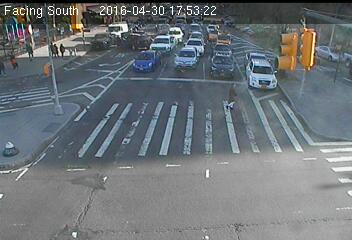neg: (281, 43, 314, 86), (122, 35, 152, 75), (179, 144, 209, 183), (200, 25, 228, 63), (224, 176, 250, 210), (54, 134, 79, 168), (279, 149, 304, 183), (12, 131, 34, 161), (48, 93, 67, 119), (106, 165, 124, 189), (308, 112, 325, 135), (126, 105, 143, 127), (173, 46, 189, 66), (134, 205, 148, 223)
pos: (223, 82, 245, 111), (20, 36, 38, 60), (47, 39, 61, 58), (11, 51, 24, 69), (59, 39, 72, 56)
